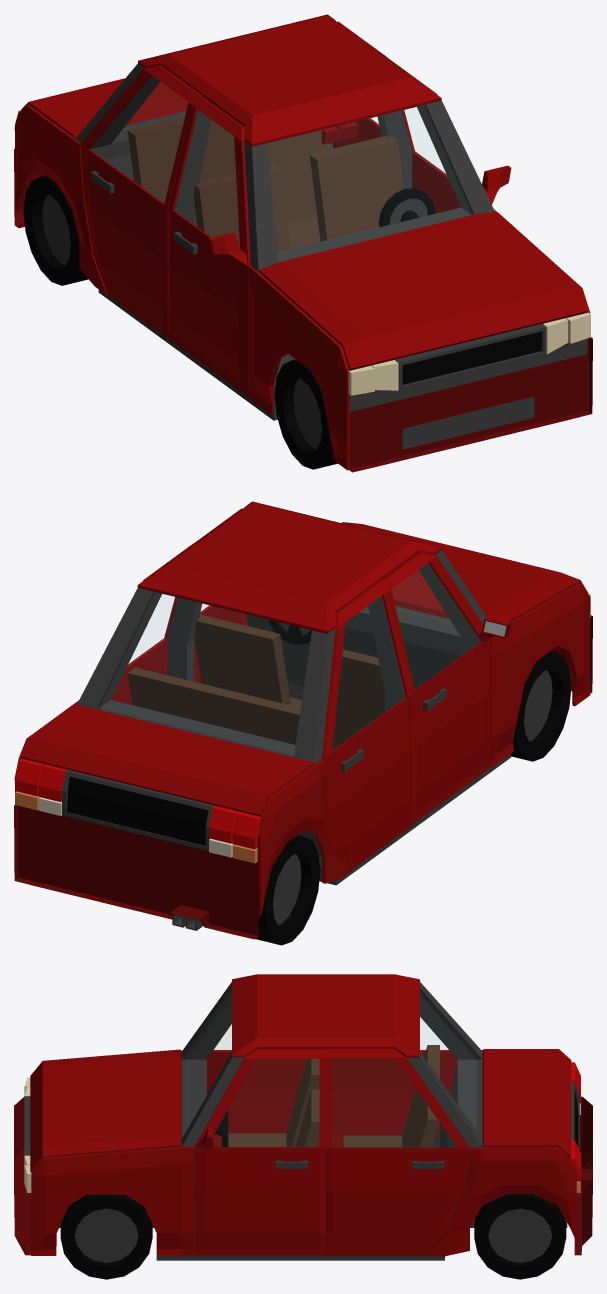
Rendered from destructible_car.glb.
3 views of the same model, one above another, from view 1: azimuth 30°, elevation 25°; view 2: azimuth 150°, elevation 25°; view 3: azimuth 270°, elevation 25° (orthographic). The views are drawn at different scales.
Visible parts, largest first — view 1: Hood, Chassis, Roof, Door_RF, Door_RB, Bumper_F, Fender_RF, Seat_B, Seat_FL, Fender_RB, Grill_F, Wheel_RB (+10 smaller); view 2: Chassis, Roof, Bumper_B, Boot, Door_RF, Door_RB, Fender_RF, Hood, Grill_B, Seat_B, Seat_FL, Fender_RB (+10 smaller); view 3: Door_LF, Door_LB, Hood, Roof, Chassis, Fender_LF, Boot, Fender_LB, Door_RB, Wheel_LF, Wheel_LB, Door_RF (+7 smaller).
Part boxes in pixels (x1,y1,x2,y2): Hood: (258,211,587,370); Chassis: (38,63,587,449); Roof: (138,14,441,146); Door_RF: (168,96,250,396); Door_RB: (80,65,202,338); Bumper_F: (349,337,592,472); Fender_RF: (248,266,349,470); Seat_B: (127,116,328,248); Seat_FL: (309,136,403,241); Fender_RB: (14,105,107,294); Grill_F: (395,324,546,390); Wheel_RB: (23,175,88,285); Chassis: (36,550,579,930); Roof: (137,501,441,633); Bumper_B: (14,805,258,939); Boot: (21,704,314,816); Door_RF: (378,552,511,824); Door_RB: (322,583,411,869); Fender_RF: (491,583,590,767); Hood: (341,522,587,622); Grill_B: (62,770,214,850); Seat_B: (127,667,300,744); Seat_FL: (194,614,301,707); Fender_RB: (257,759,351,916); Door_LF: (194,1049,325,1255); Door_LB: (326,1048,469,1255); Hood: (30,1049,181,1172); Roof: (232,974,419,1057); Chassis: (31,982,567,1260); Fender_LF: (31,1147,193,1255); Boot: (482,1049,571,1158); Fender_LB: (425,1147,576,1256); Door_RB: (332,1050,457,1147); Wheel_LF: (60,1194,152,1279); Wheel_LB: (474,1194,566,1279); Door_RF: (207,1050,319,1146).
Size of the model in its own units: 2.27 by 1.98 by 4.62.
